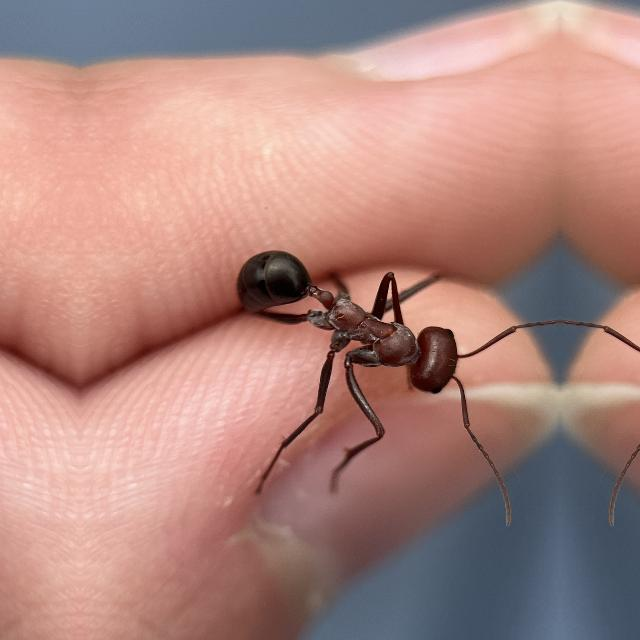Cataglyphis: (223, 214, 517, 478)
